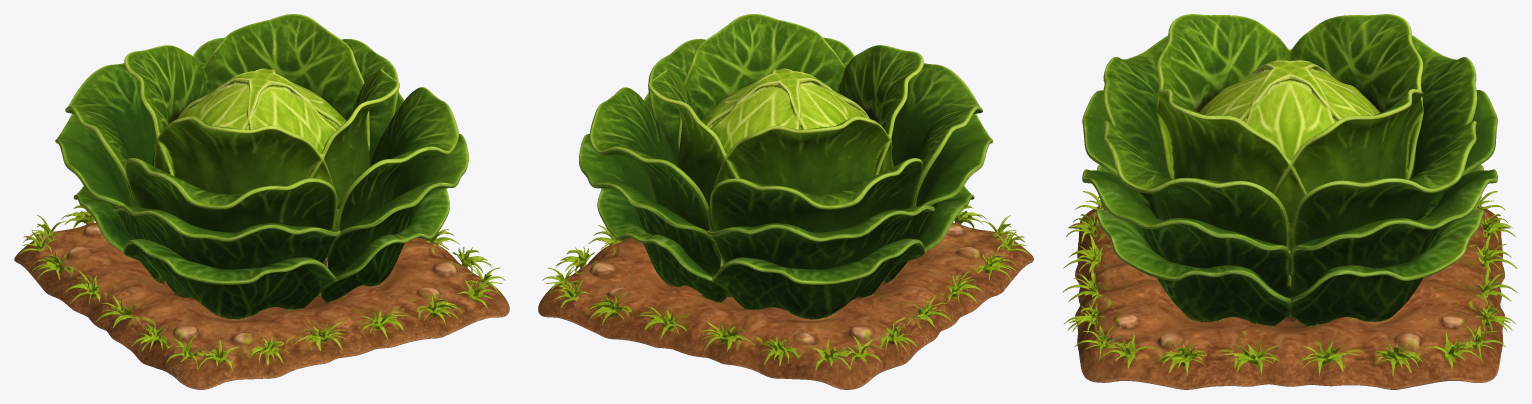
File: cabbage.glb
3 views of the same model, side by side, from view 1: azimuth 30°, elevation 25°; view 2: azimuth 150°, elevation 25°; view 3: azimuth 270°, elevation 25° (orthographic). The views are drawn at different scales.
Bounding box in the file's own units: 1.89 × 1.1 × 1.89.
Materials: 1 (1 with a texture image).
